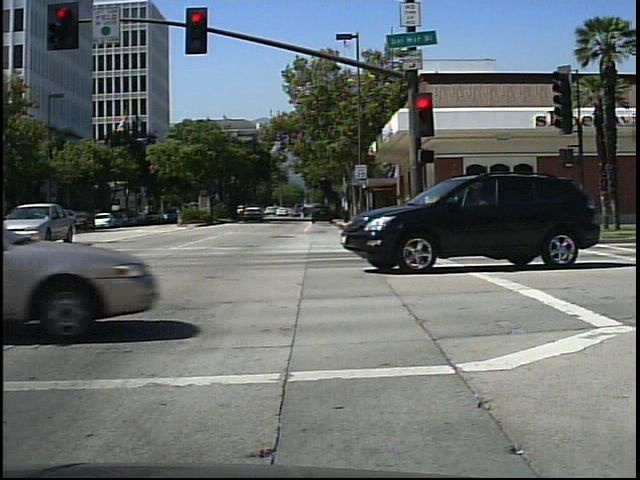person: (294, 203, 308, 221)
